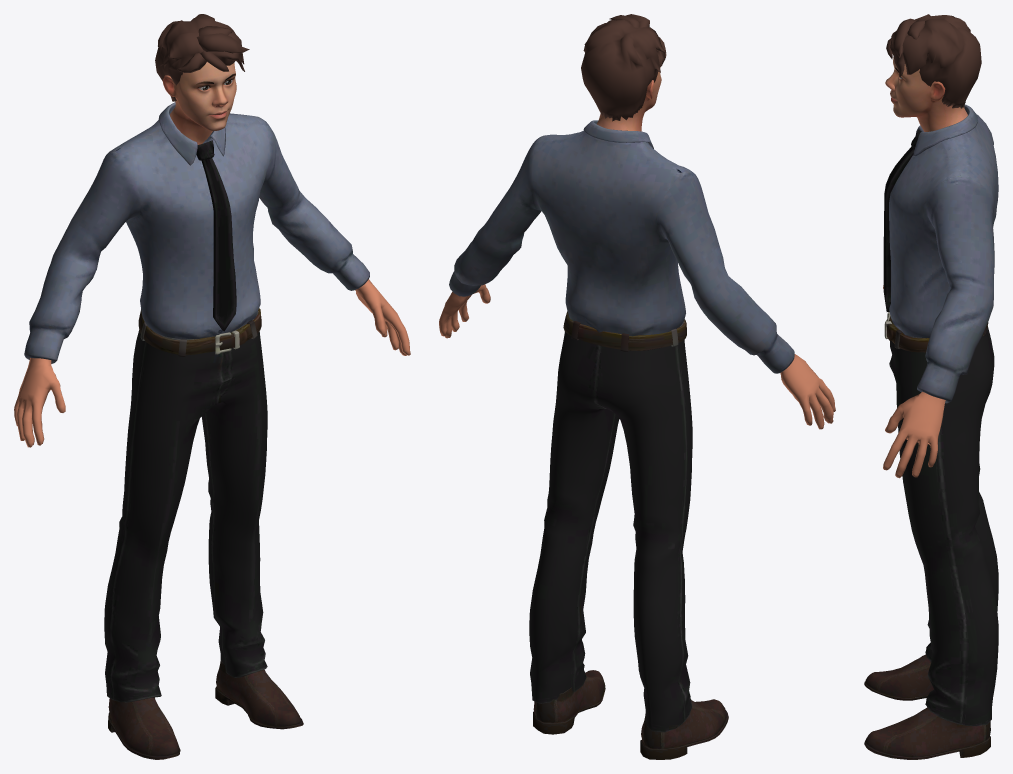
The model's file is staff(breathing).glb.
The picture shows the model from 3 angles, left to right: view 1: azimuth 30°, elevation 25°; view 2: azimuth 150°, elevation 25°; view 3: azimuth 270°, elevation 25°; orthographic projection.
Parts seen in each view (by area): view 1: node_id93, node_id87, node_id90, node_id84, node_id96, node_id78; view 2: node_id87, node_id93, node_id96, node_id90, node_id84, node_id78; view 3: node_id87, node_id93, node_id90, node_id96, node_id84, node_id78.
Boxes of the visible parts, x1,y1,x2,y2 form: node_id93: (24,102,369,363); node_id87: (104,308,267,702); node_id90: (108,660,303,759); node_id84: (14,279,410,447); node_id96: (155,14,249,101); node_id78: (162,62,236,144); node_id87: (529,311,692,732); node_id93: (449,120,794,373); node_id96: (581,14,666,121); node_id90: (533,670,728,759); node_id84: (439,284,835,429); node_id78: (597,67,661,131); node_id87: (884,312,998,726); node_id93: (883,104,998,403); node_id90: (864,654,990,759); node_id96: (886,14,981,108); node_id84: (883,285,945,478); node_id78: (885,57,967,131).
Size of the model in its own units: 0.2919 by 0.5116 by 0.0887.
Materials: 9 (9 with a texture image).
